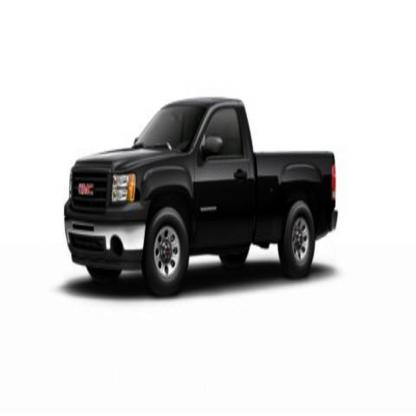Truck: (64, 96, 338, 296)
